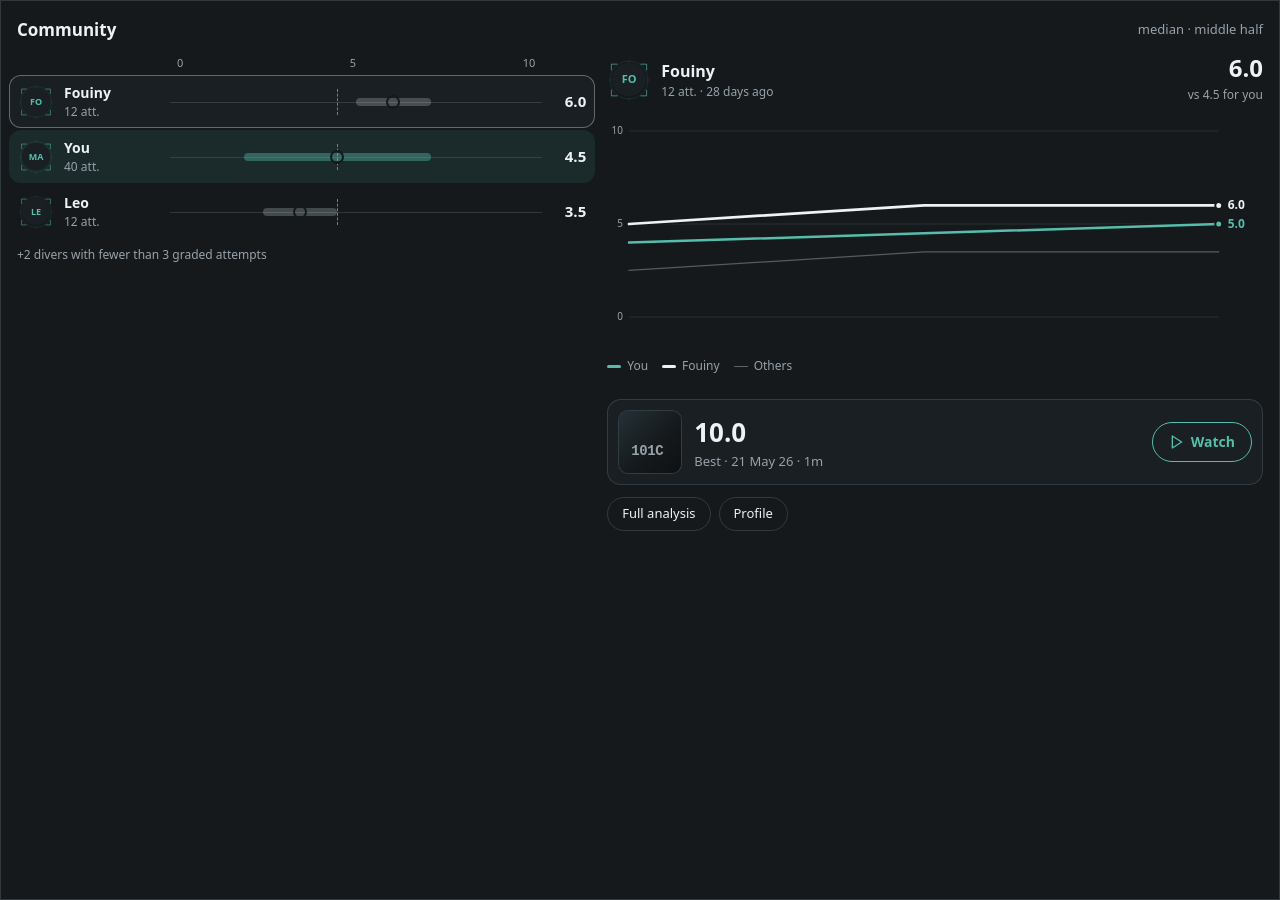
shows the ranking and the comparison side by side on wide screens, starting on the diver just above you
Click the button with aria-label "Compare with Leo".
click(302, 212)  # box 9,185 -> 595,238
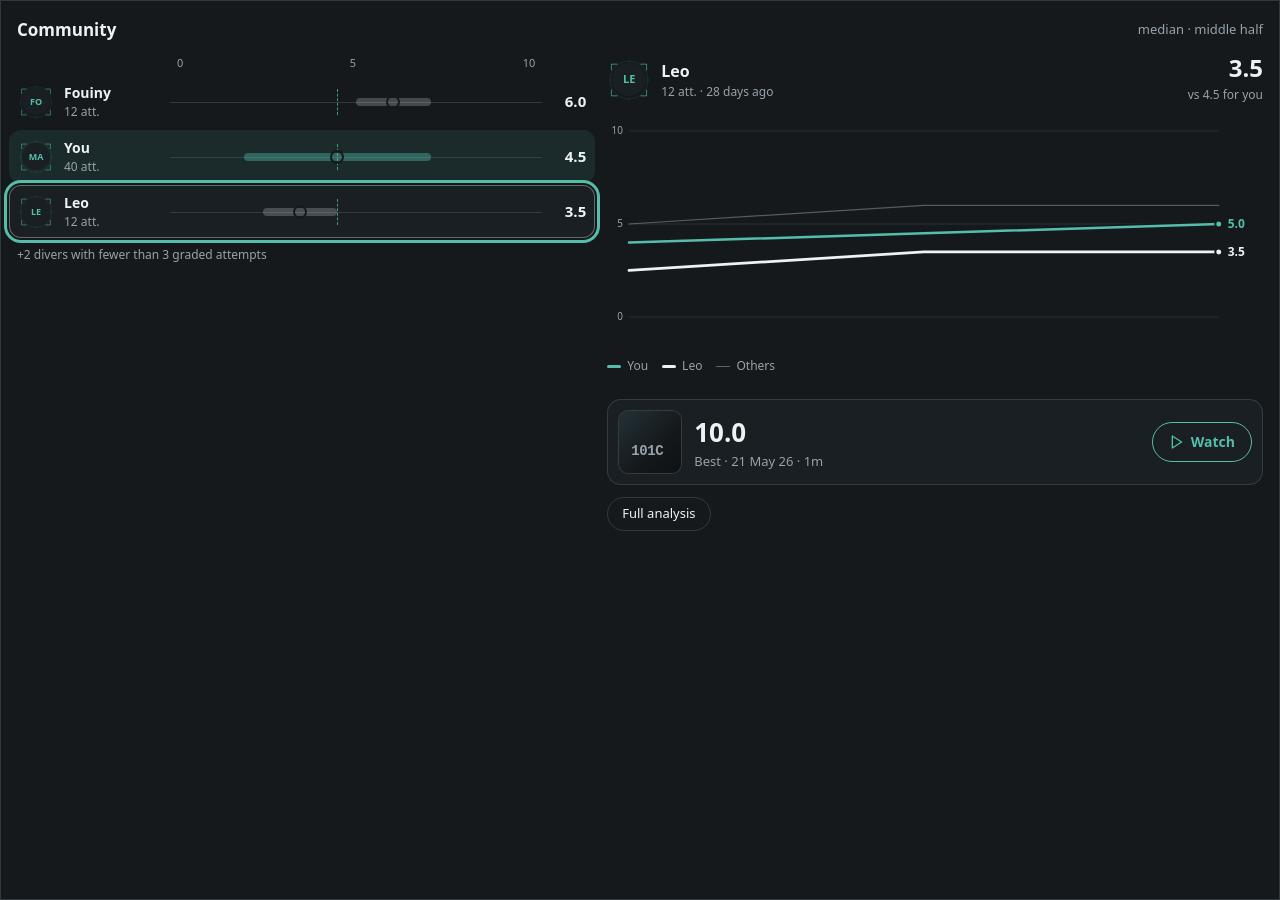
Now the link "Profile" is gone
